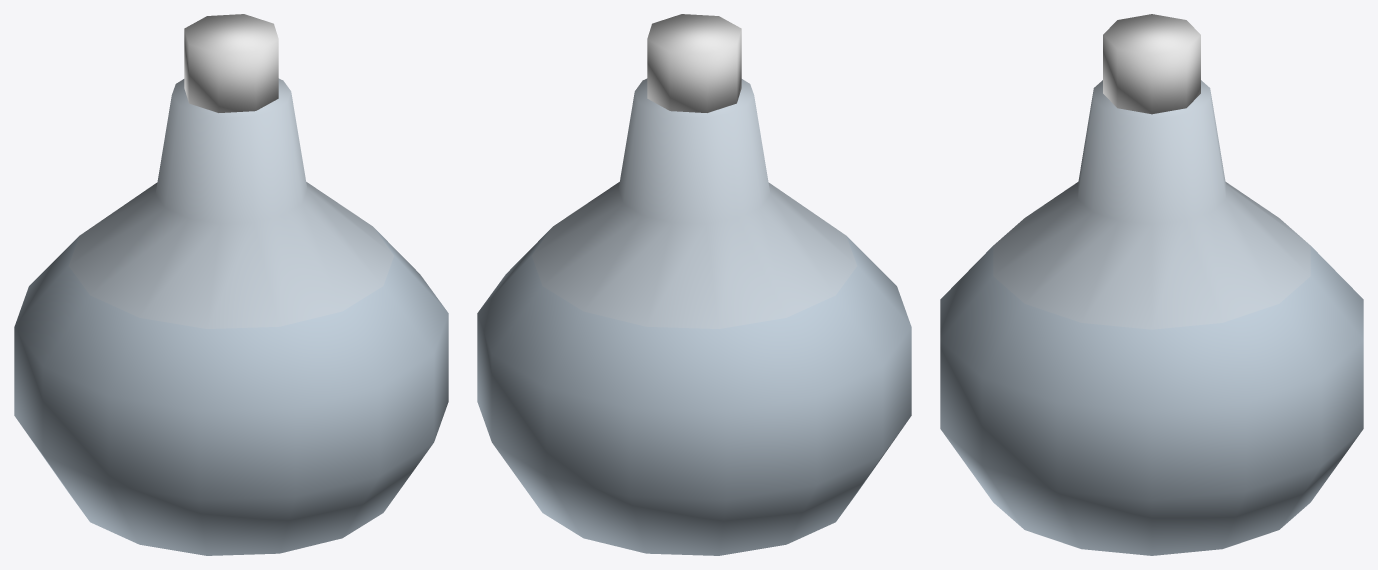
File: cloud_in_a_bottle.glb
3 renders of one model, left to right at view 1: azimuth 30°, elevation 25°; view 2: azimuth 150°, elevation 25°; view 3: azimuth 270°, elevation 25°, orthographic.
Visible parts, largest first — view 1: cloud_in_a_bottle_v0; view 2: cloud_in_a_bottle_v0; view 3: cloud_in_a_bottle_v0.
Boxes of the visible parts, x1,y1,x2,y2 form: cloud_in_a_bottle_v0: [14, 14, 448, 555]; cloud_in_a_bottle_v0: [477, 14, 911, 555]; cloud_in_a_bottle_v0: [940, 14, 1363, 555].
Size of the model in its own units: 0.24 by 0.276 by 0.234.
